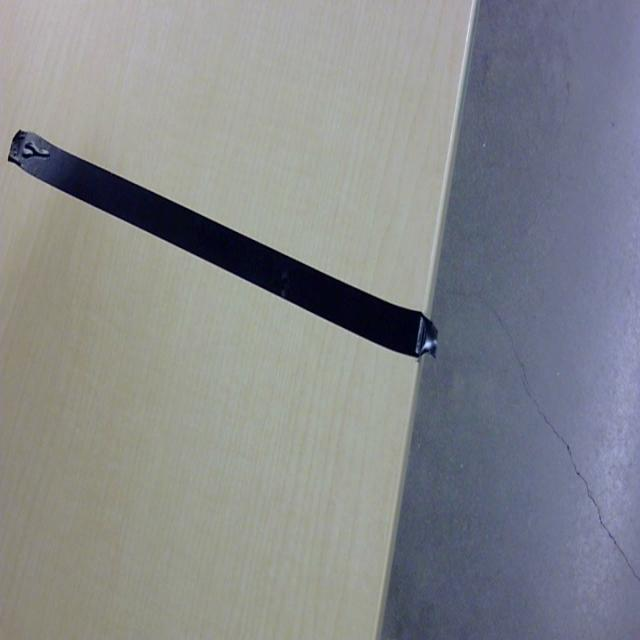tape: (9, 127, 423, 360)
